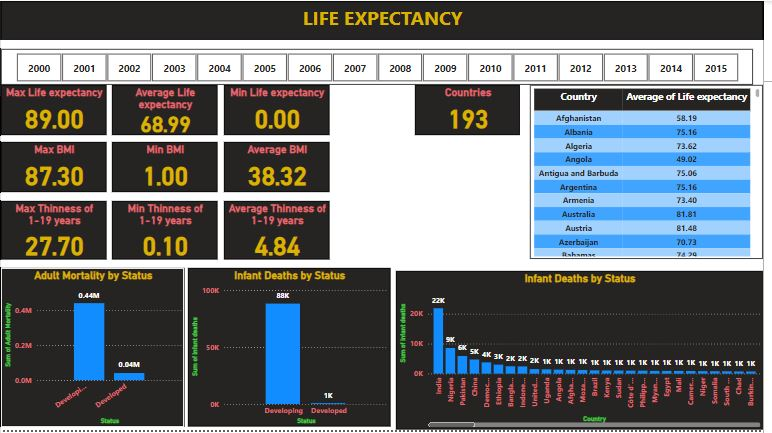

This screenshot's page, from the dashboard's own definition file:
{"tool":"powerbi","page":{"name":"Page 1","canvas":[1280,720],"ordinal":0},"visuals":[{"type":"textbox","box":[0,0,1280.2,64.8],"z":0},{"type":"slicer","fields":{"Values":["Life Expectancy Data.Year"]},"box":[0,80.6,1262.9,60.5],"z":1000},{"type":"card","title":"Countries","fields":{"Values":["Count(Life Expectancy Data.Country)"]},"box":[695.4,141.1,176.4,84],"z":2000},{"type":"tableEx","fields":{"Values":["Life Expectancy Data.Country","Avg(Life Expectancy Data.Life expectancy )"]},"box":[888.6,141.1,391.4,292.3],"z":3000},{"type":"card","title":"Max Life expectancy","fields":{"Values":["Max(Life Expectancy Data.Life expectancy )"]},"box":[0,141.1,177.1,83.5],"z":4000},{"type":"card","title":"Average Life expectancy","fields":{"Values":["Avg(Life Expectancy Data.Life expectancy )"]},"box":[187.2,141.1,177.1,83.5],"z":5000},{"type":"card","title":"Min Life expectancy","fields":{"Values":["Min(Life Expectancy Data.Life expectancy )"]},"box":[374.4,141.1,177.1,83.5],"z":6000},{"type":"card","title":"Max BMI","fields":{"Values":["Max(Life Expectancy Data. BMI )"]},"box":[0,237.6,177.1,83.5],"z":7000},{"type":"card","title":"Min BMI","fields":{"Values":["Min(Life Expectancy Data. BMI )"]},"box":[187.2,237.6,177.1,83.5],"z":8000},{"type":"card","title":"Average BMI","fields":{"Values":["Avg(Life Expectancy Data. BMI )"]},"box":[374.4,237.6,177.1,83.5],"z":9000},{"type":"card","title":"Max Thinness of 1-19 years","fields":{"Values":["Max(Life Expectancy Data. thinness  1-19 years)"]},"box":[0,335.5,177.1,97.9],"z":10000},{"type":"card","title":"Min Thinness of 1-19 years","fields":{"Values":["Min(Life Expectancy Data. thinness  1-19 years)"]},"box":[187.2,335.5,177.1,97.9],"z":11000},{"type":"card","title":"Average Thinness of 1-19 years","fields":{"Values":["Avg(Life Expectancy Data. thinness  1-19 years)"]},"box":[374.4,335.5,177.1,97.9],"z":12000},{"type":"columnChart","title":"Adult Mortality by Status","fields":{"Category":["Life Expectancy Data.Status"],"Y":["Sum(Life Expectancy Data.Adult Mortality)"]},"box":[0,449.3,308.2,266.4],"z":13000},{"type":"columnChart","title":"Infant Deaths by Status","fields":{"Y":["Sum(Life Expectancy Data.infant deaths)"],"Category":["Life Expectancy Data.Status"]},"box":[313.9,449.3,339.8,266.4],"z":14000},{"type":"columnChart","title":"Infant Deaths by Status","fields":{"Y":["Sum(Life Expectancy Data.infant deaths)"],"Category":["Life Expectancy Data.Country"]},"box":[663.8,453.6,616.3,266.4],"z":15000}]}

Visuals, with their boxes in screenshot pixels (x1, y1, x2, y2), scaled from the page's 1280x720 canvas onto the 772x433 screenshot:
textbox: {"x1": 0, "y1": 0, "x2": 771, "y2": 39}
slicer - Life Expectancy Data.Year: {"x1": 0, "y1": 48, "x2": 762, "y2": 85}
"Countries" card: {"x1": 419, "y1": 85, "x2": 526, "y2": 135}
tableEx - Life Expectancy Data.Country x Avg(Life Expectancy Data.Life expectancy ): {"x1": 536, "y1": 85, "x2": 771, "y2": 261}
"Max Life expectancy" card: {"x1": 0, "y1": 85, "x2": 107, "y2": 135}
"Average Life expectancy" card: {"x1": 113, "y1": 85, "x2": 220, "y2": 135}
"Min Life expectancy" card: {"x1": 226, "y1": 85, "x2": 333, "y2": 135}
"Max BMI" card: {"x1": 0, "y1": 143, "x2": 107, "y2": 193}
"Min BMI" card: {"x1": 113, "y1": 143, "x2": 220, "y2": 193}
"Average BMI" card: {"x1": 226, "y1": 143, "x2": 333, "y2": 193}
"Max Thinness of 1-19 years" card: {"x1": 0, "y1": 202, "x2": 107, "y2": 261}
"Min Thinness of 1-19 years" card: {"x1": 113, "y1": 202, "x2": 220, "y2": 261}
"Average Thinness of 1-19 years" card: {"x1": 226, "y1": 202, "x2": 333, "y2": 261}
"Adult Mortality by Status" columnChart: {"x1": 0, "y1": 270, "x2": 186, "y2": 430}
"Infant Deaths by Status" columnChart: {"x1": 189, "y1": 270, "x2": 394, "y2": 430}
"Infant Deaths by Status" columnChart: {"x1": 400, "y1": 273, "x2": 771, "y2": 432}
